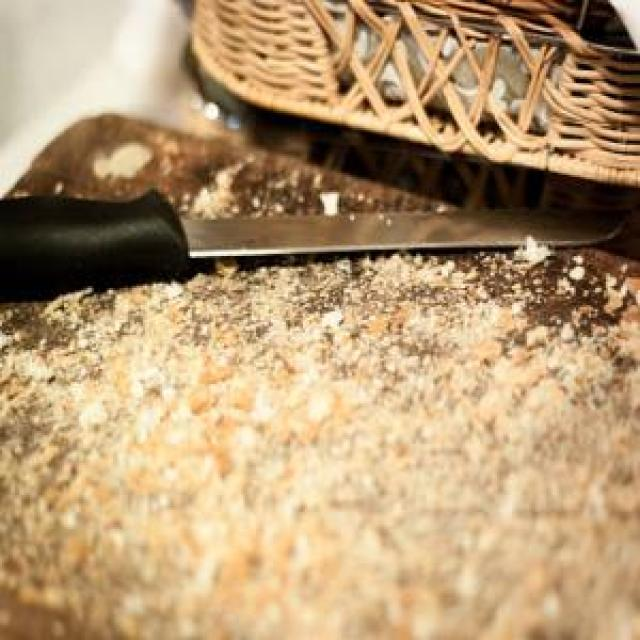knife: (0, 188, 629, 303)
